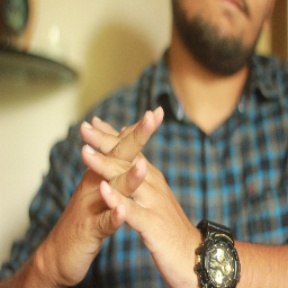W: (61, 94, 188, 288)
